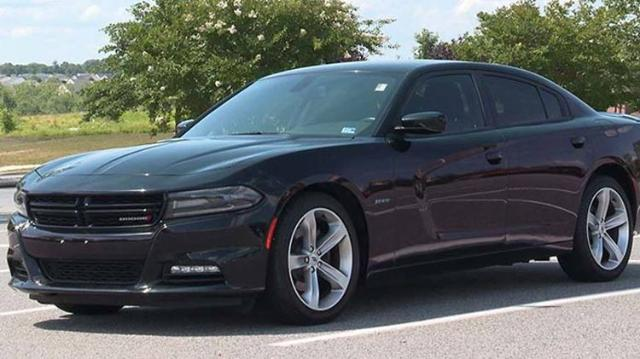dodge: (5, 59, 640, 326)
